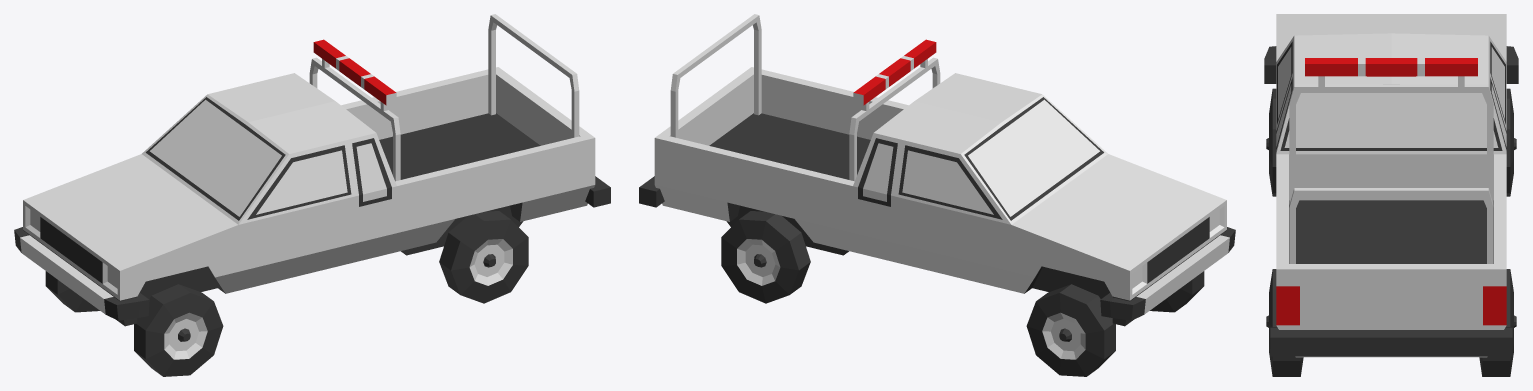
File: car-baywatch.fbx
3 renders of one model, left to right at view 1: azimuth 30°, elevation 25°; view 2: azimuth 150°, elevation 25°; view 3: azimuth 270°, elevation 25°, orthographic. The views are drawn at different scales.
Parts seen in each view (by area): view 1: car-baywatch, car-baywatch-wheelBackLeft, car-baywatch-wheelFrontLeft, car-baywatch-wheelFrontRight; view 2: car-baywatch, car-baywatch-wheelBackRight, car-baywatch-wheelFrontRight, car-baywatch-wheelFrontLeft; view 3: car-baywatch, car-baywatch-wheelBackLeft, car-baywatch-wheelBackRight, car-baywatch-wheelFrontRight, car-baywatch-wheelFrontLeft.
Boxes of the visible parts, x1,y1,x2,y2 form: car-baywatch: [14, 14, 610, 326]; car-baywatch-wheelBackLeft: [439, 211, 528, 303]; car-baywatch-wheelFrontLeft: [134, 284, 223, 376]; car-baywatch-wheelFrontRight: [45, 271, 99, 312]; car-baywatch: [639, 14, 1235, 326]; car-baywatch-wheelBackRight: [721, 211, 810, 303]; car-baywatch-wheelFrontRight: [1026, 284, 1115, 376]; car-baywatch-wheelFrontLeft: [1150, 271, 1204, 312]; car-baywatch: [1264, 14, 1518, 357]; car-baywatch-wheelBackLeft: [1266, 269, 1303, 376]; car-baywatch-wheelBackRight: [1479, 269, 1516, 376]; car-baywatch-wheelFrontRight: [1506, 88, 1516, 196]; car-baywatch-wheelFrontLeft: [1266, 88, 1276, 196].
Bounding box in the file's own units: 5.27 × 1.96 × 2.22.
